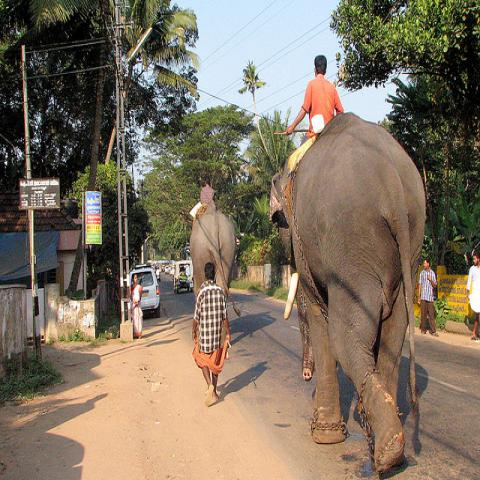car: (130, 267, 162, 317), (172, 260, 195, 294), (164, 266, 170, 275)
